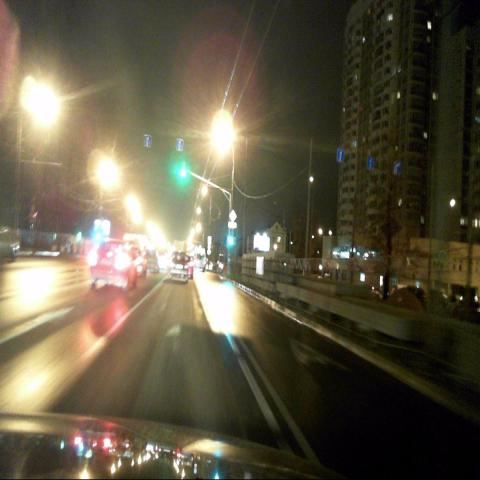2_1: (228, 209, 236, 221)
5_15_2: (393, 160, 401, 175), (336, 149, 344, 163), (366, 156, 374, 170), (145, 134, 152, 146), (176, 139, 182, 152)
